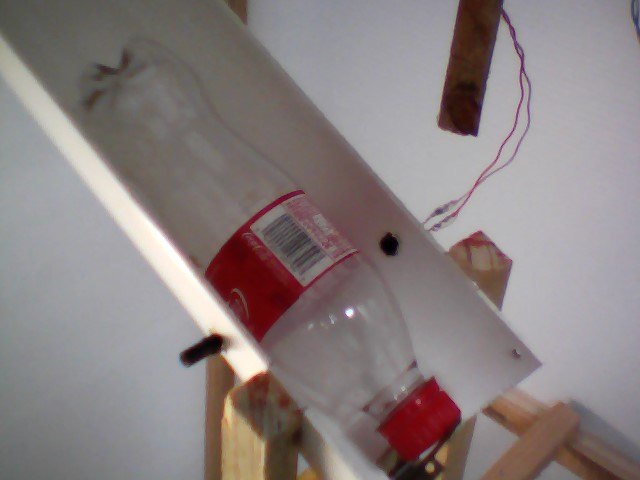plastico: (70, 34, 474, 465)
